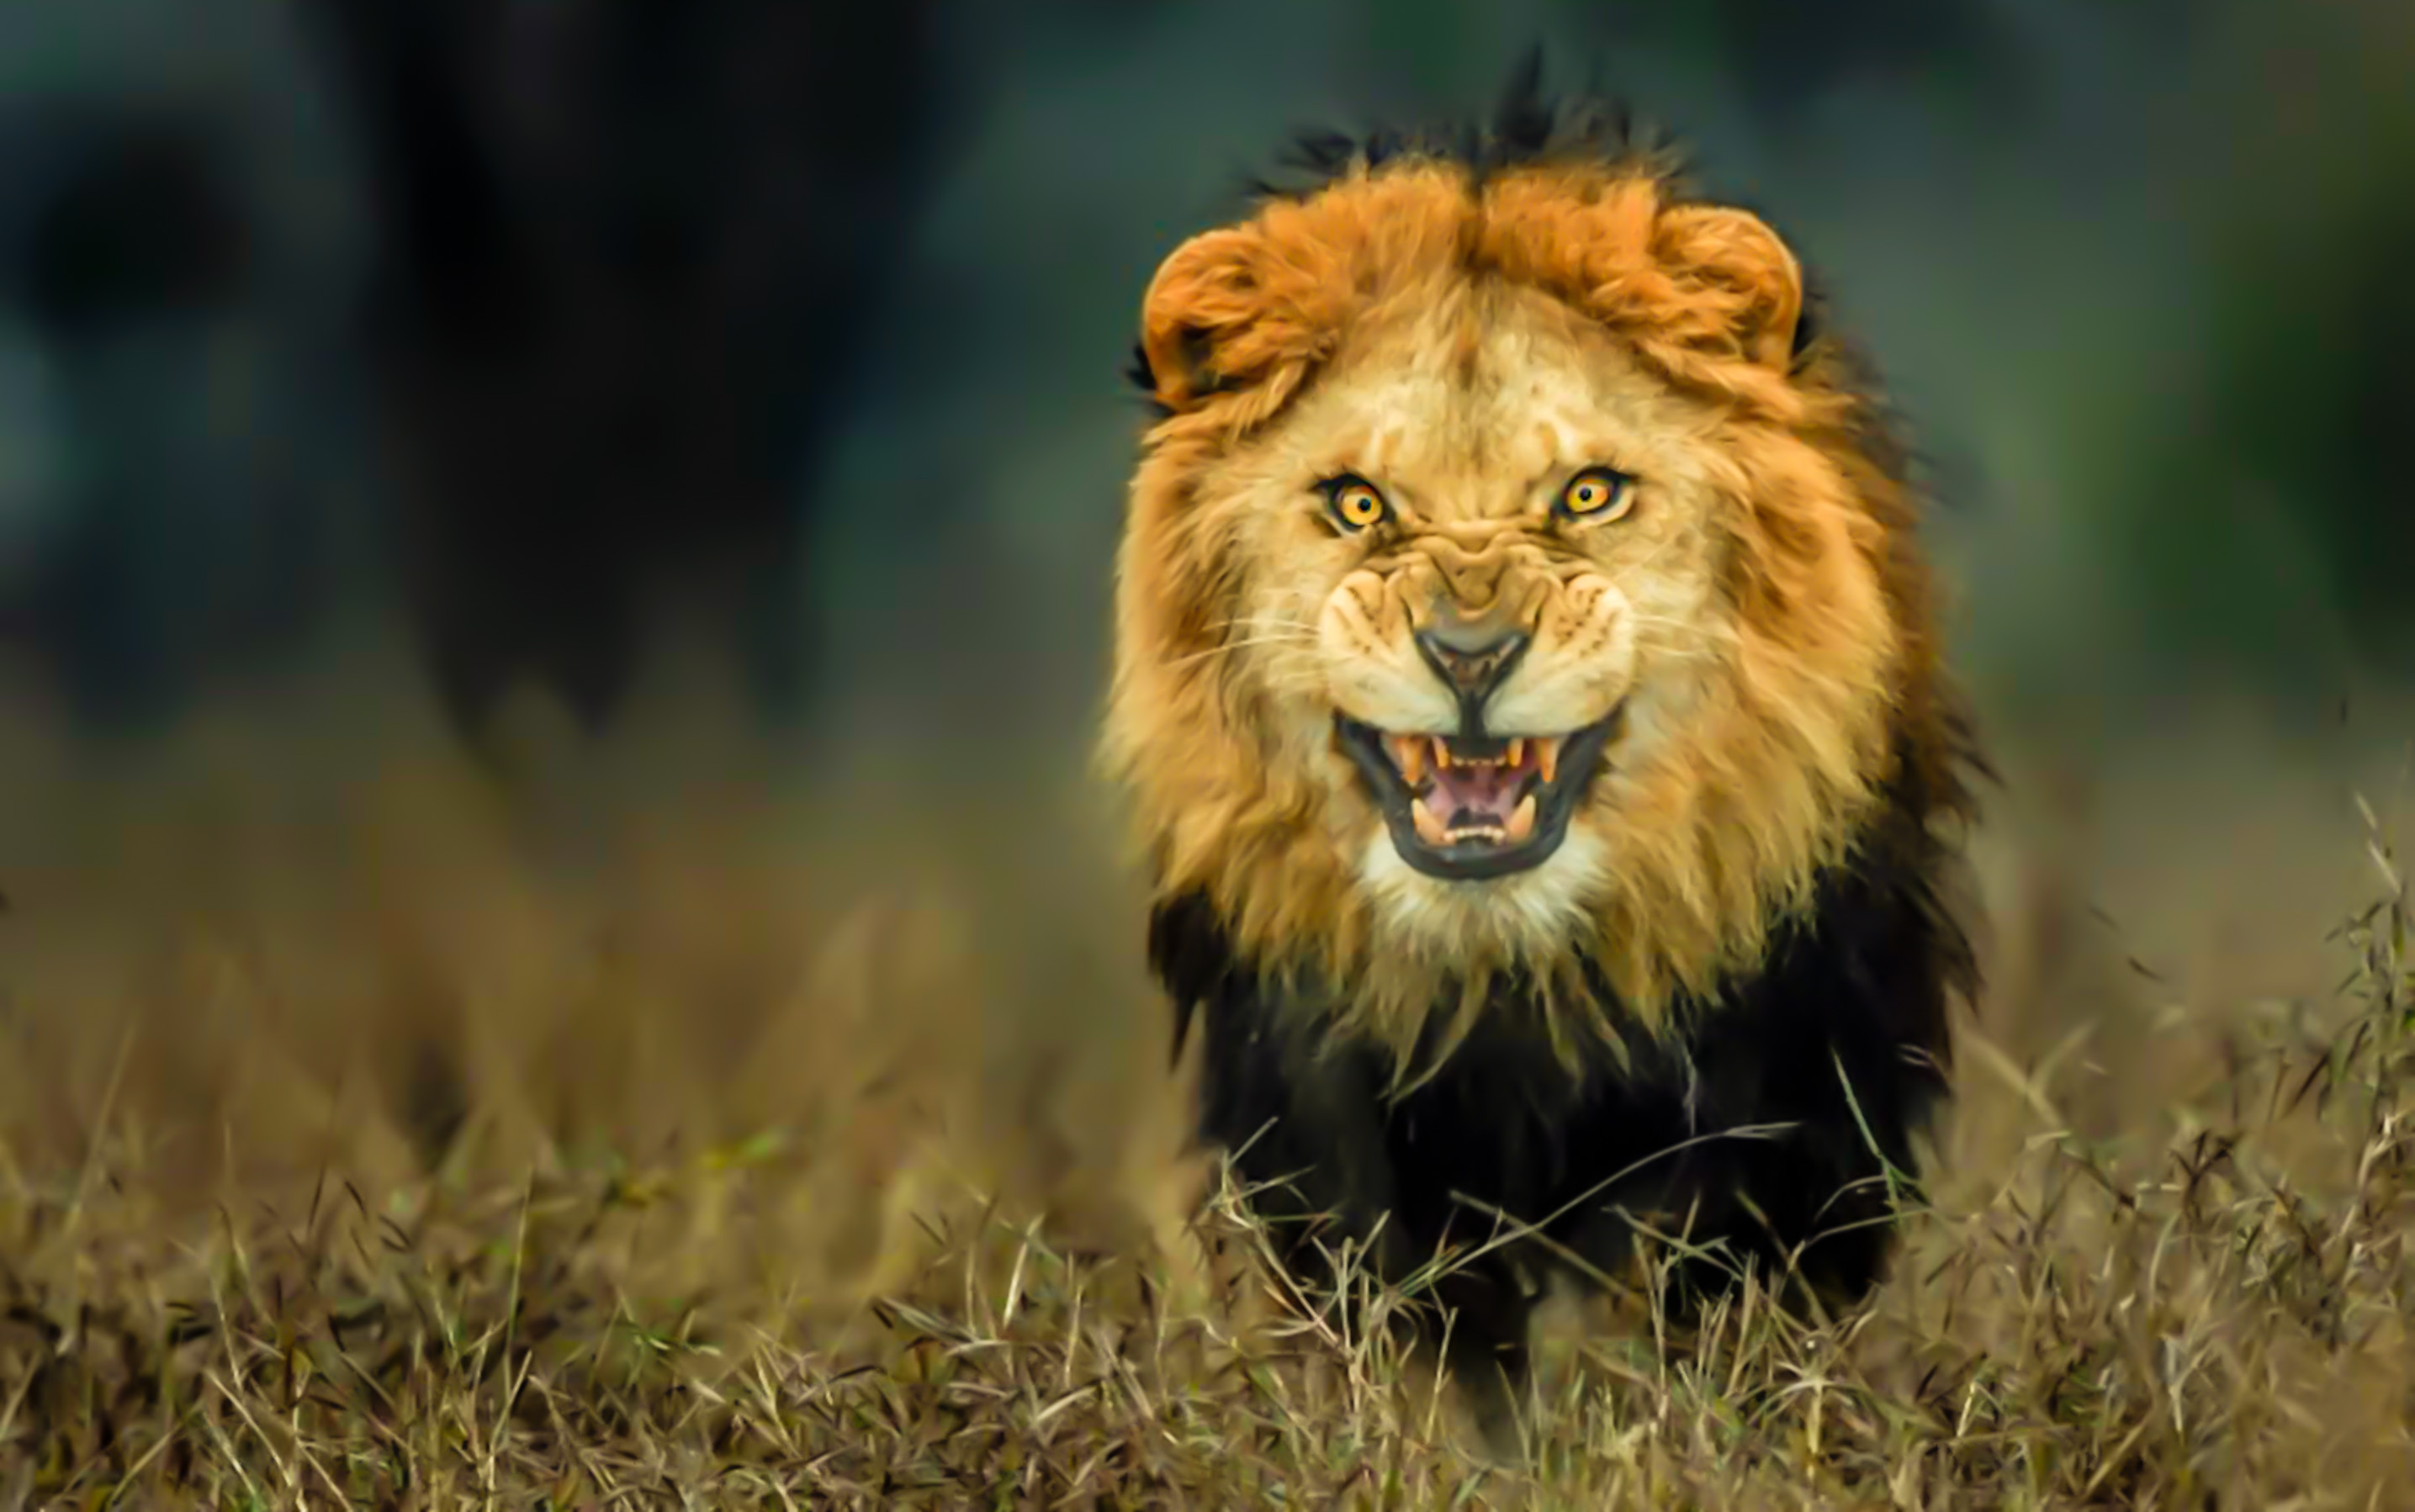lion: (1093, 110, 1955, 1252)
